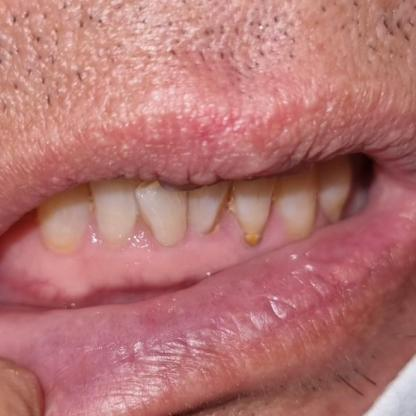Crowding: (101, 180, 175, 245)
